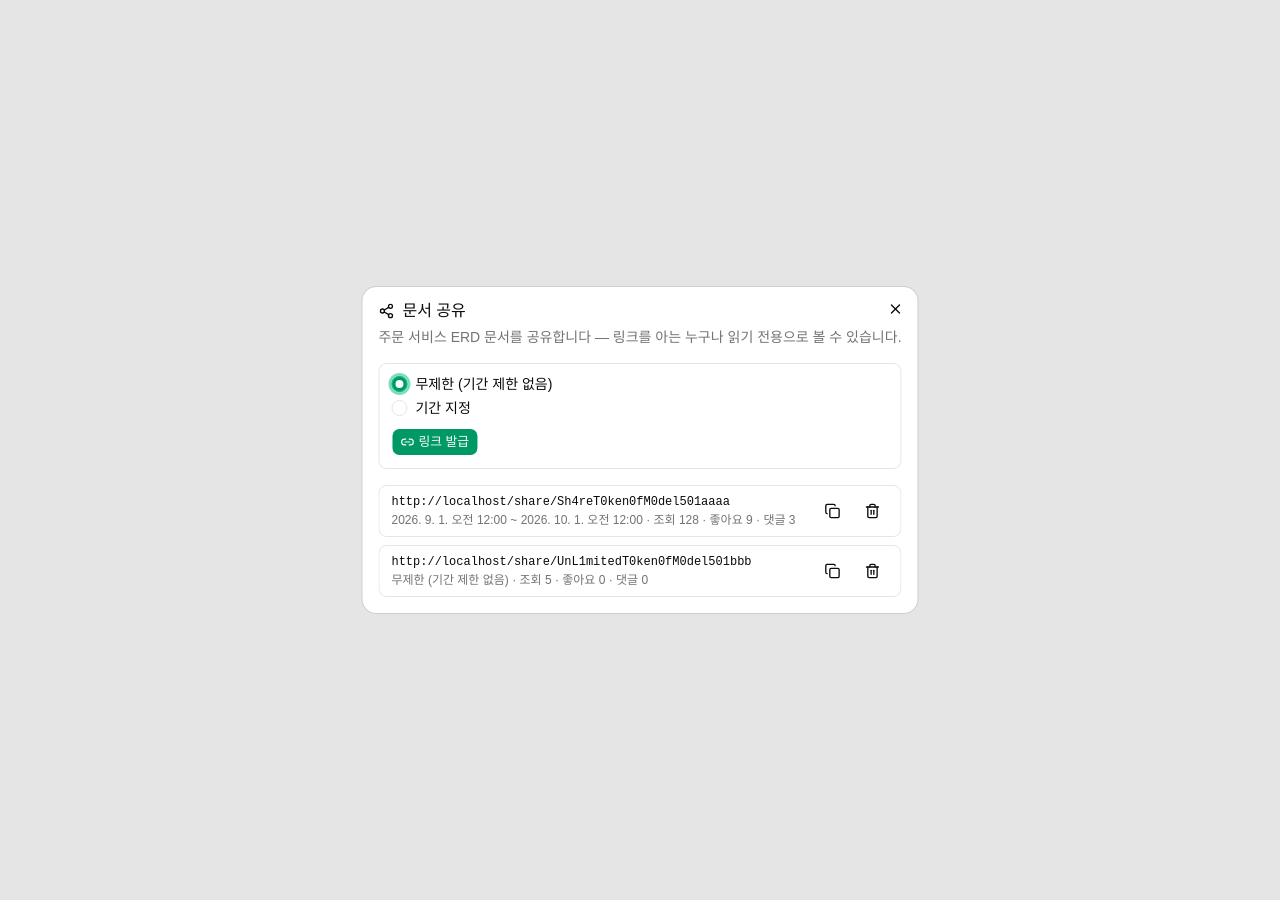
it: ShareDialog — 복사·철회 › copies the public link to the clipboard
Click the button named "링크 복사" next to "조회 128 · 좋아요 9 · 댓글 3".
click(832, 511)  # box left=816, top=495, right=848, bottom=527
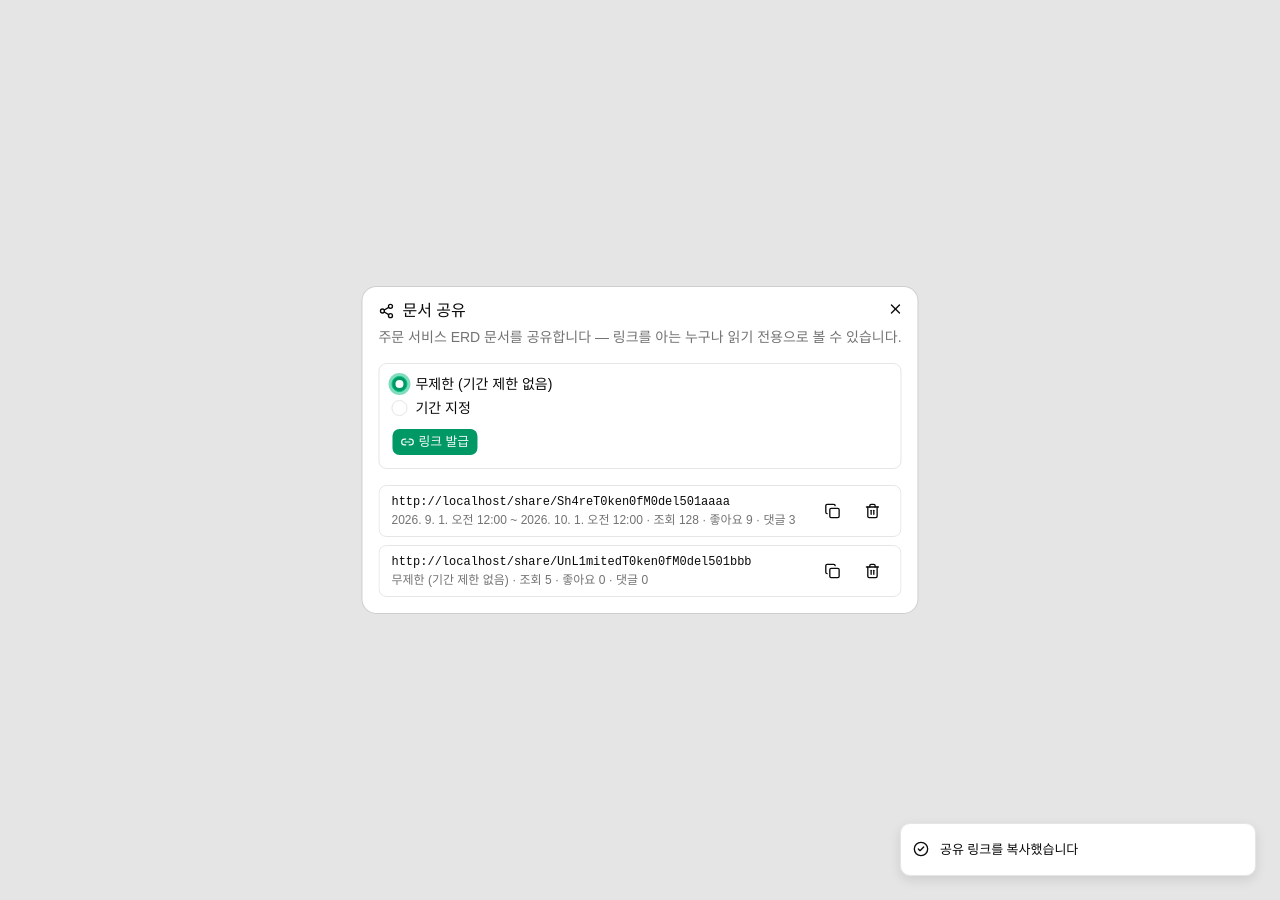
Now the text "공유 링크를 복사했습니다" is shown, box left=940, top=840, right=1078, bottom=859
